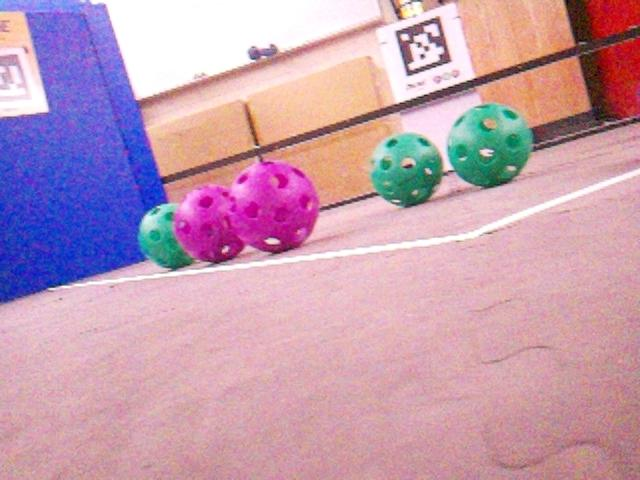Green: (445, 103, 531, 187), (367, 132, 443, 207), (138, 203, 193, 269)
Purple: (228, 161, 318, 251), (175, 184, 246, 262)
